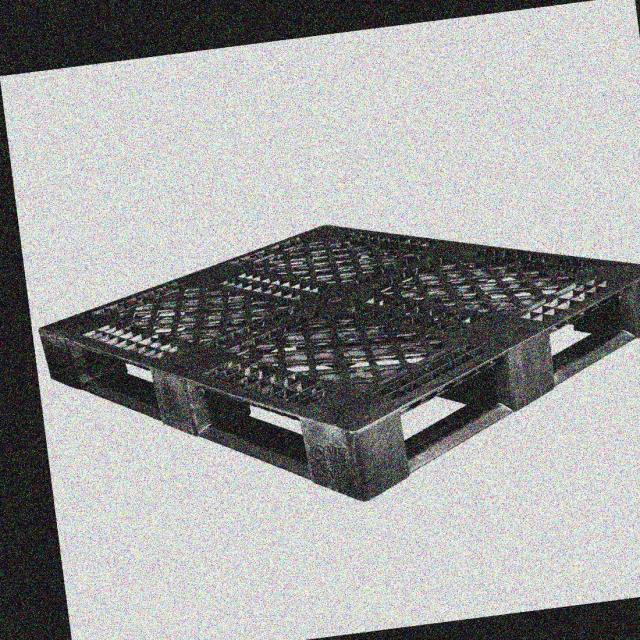non-igps: (36, 220, 640, 507)
